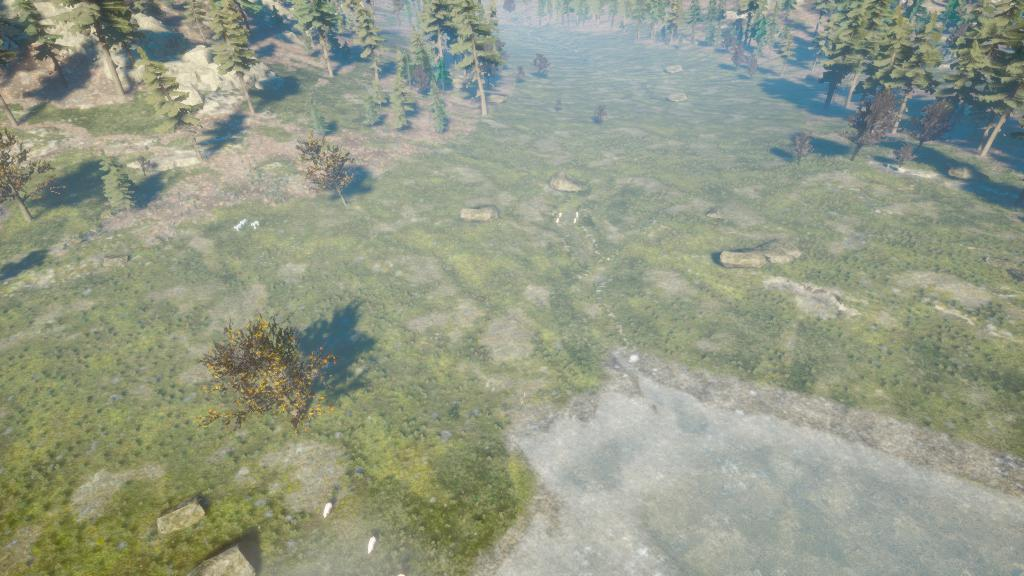pig: (364, 535, 380, 557), (318, 501, 336, 520)
zebra: (249, 219, 261, 231), (237, 216, 250, 227), (232, 223, 243, 234)
